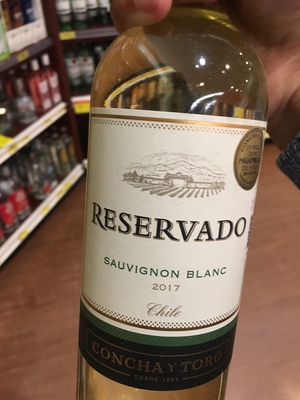reservado sauvignon blanc: (80, 16, 264, 400)
